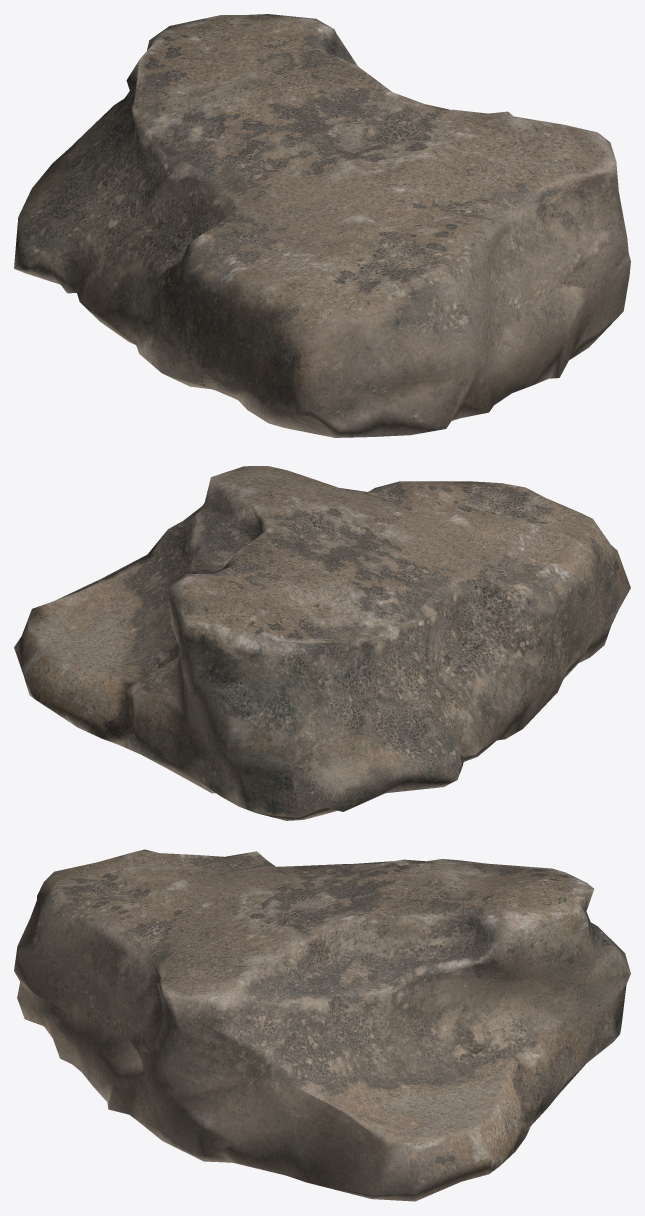
The model's file is vd5rdhd_tier_2.gltf.
3 renders of one model, top to bottom at view 1: azimuth 30°, elevation 25°; view 2: azimuth 150°, elevation 25°; view 3: azimuth 270°, elevation 25°, orthographic. The views are drawn at different scales.
Parts seen in each view (by area): view 1: vd5rdhd_LOD0_TIER2_000; view 2: vd5rdhd_LOD0_TIER2_000; view 3: vd5rdhd_LOD0_TIER2_000.
Boxes of the visible parts, x1,y1,x2,y2 form: vd5rdhd_LOD0_TIER2_000: [14, 14, 630, 437]; vd5rdhd_LOD0_TIER2_000: [14, 466, 630, 820]; vd5rdhd_LOD0_TIER2_000: [14, 849, 630, 1201].
Bounding box in the file's own units: 0.276 × 0.1158 × 0.2935.
1 material, 1 textured.
